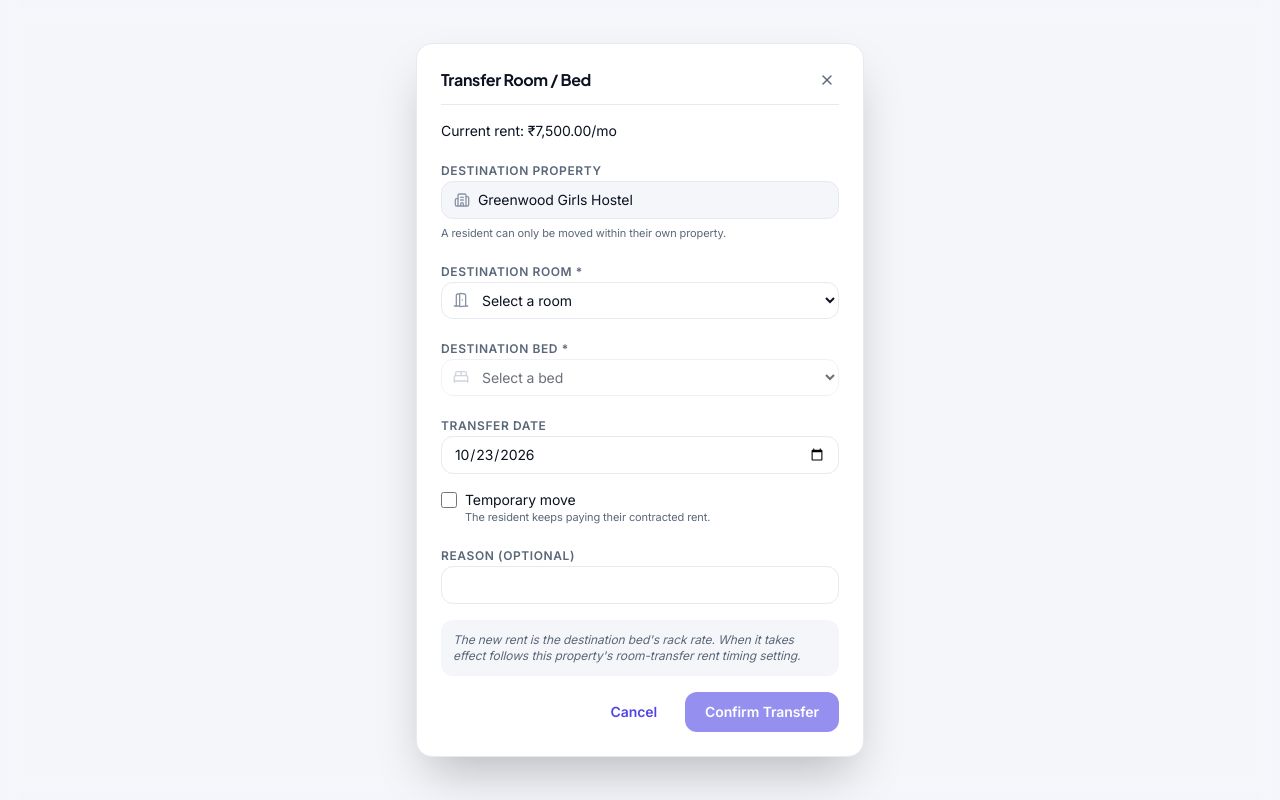
Test: TransferRoomDialog › shows the current rent, the rack rate for the resident's food preference, and keeps the property fixed
Expected: the text "Current rent: ₹7,500.00/mo" is shown, [441, 122, 617, 139]
Expected: the text "Greenwood Girls Hostel" is shown, [441, 181, 839, 219]
Select "Room G01 · Ground Floor (2-sharing, AC)" in the dropdown labelled "Destination room *": point(640, 300) [441, 282, 839, 319]
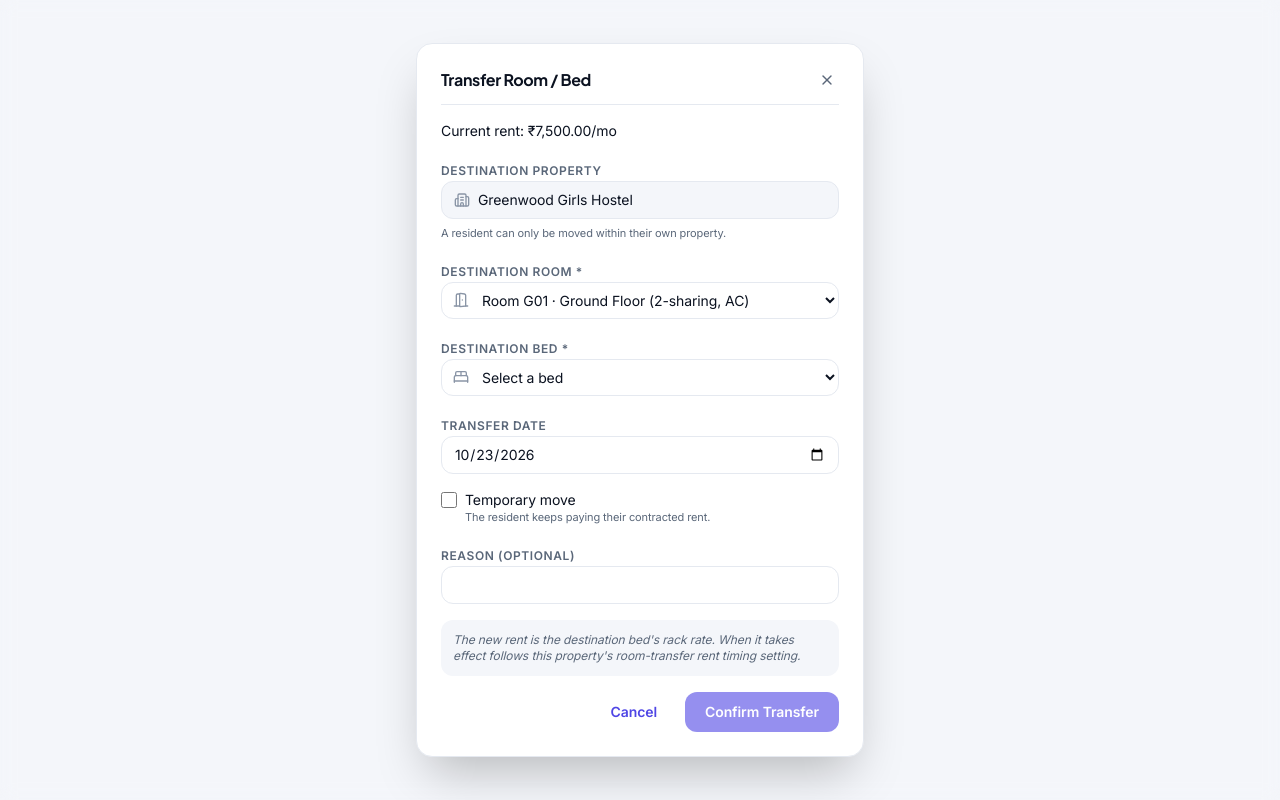
Select "Bed G01-B" in the dropdown labelled "Destination bed *": point(640, 377) [441, 359, 839, 396]
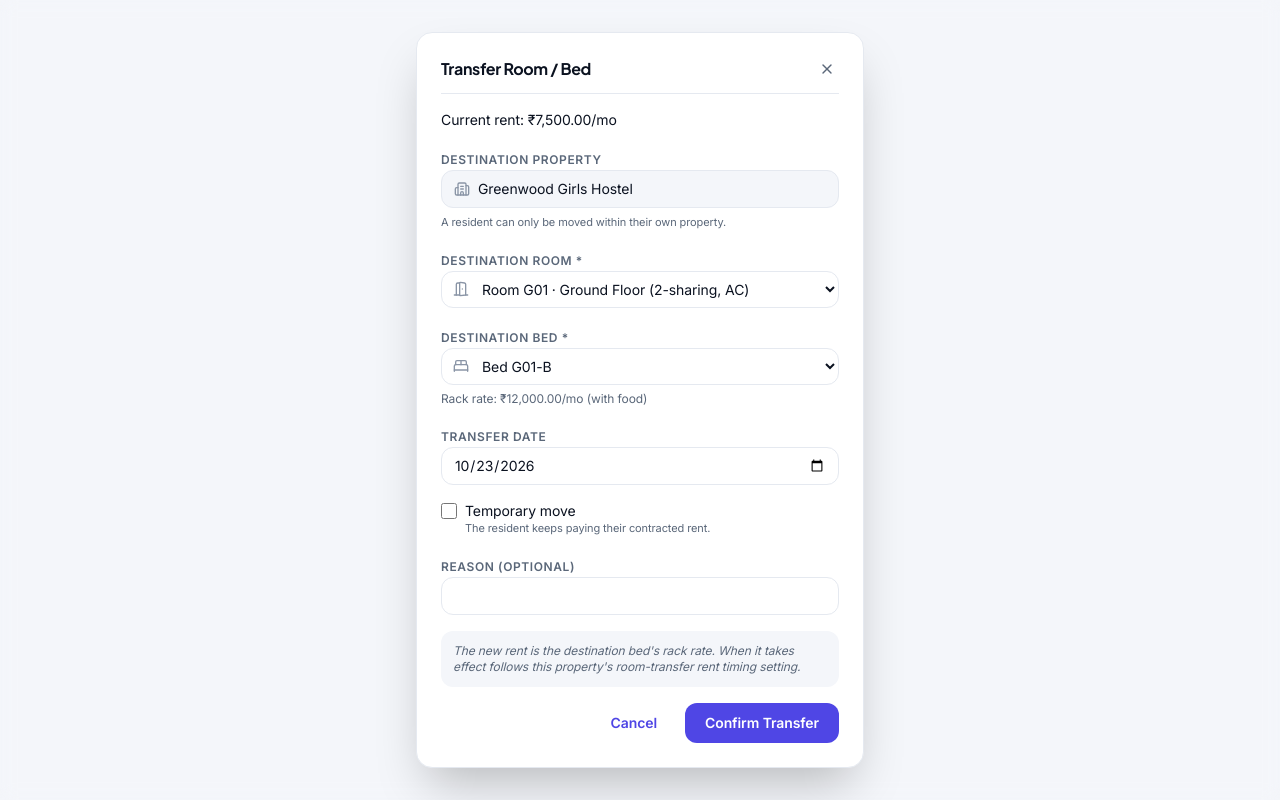
Expected: the text "Rack rate: ₹12,000.00/mo (with food)" is shown, [441, 391, 647, 406]
